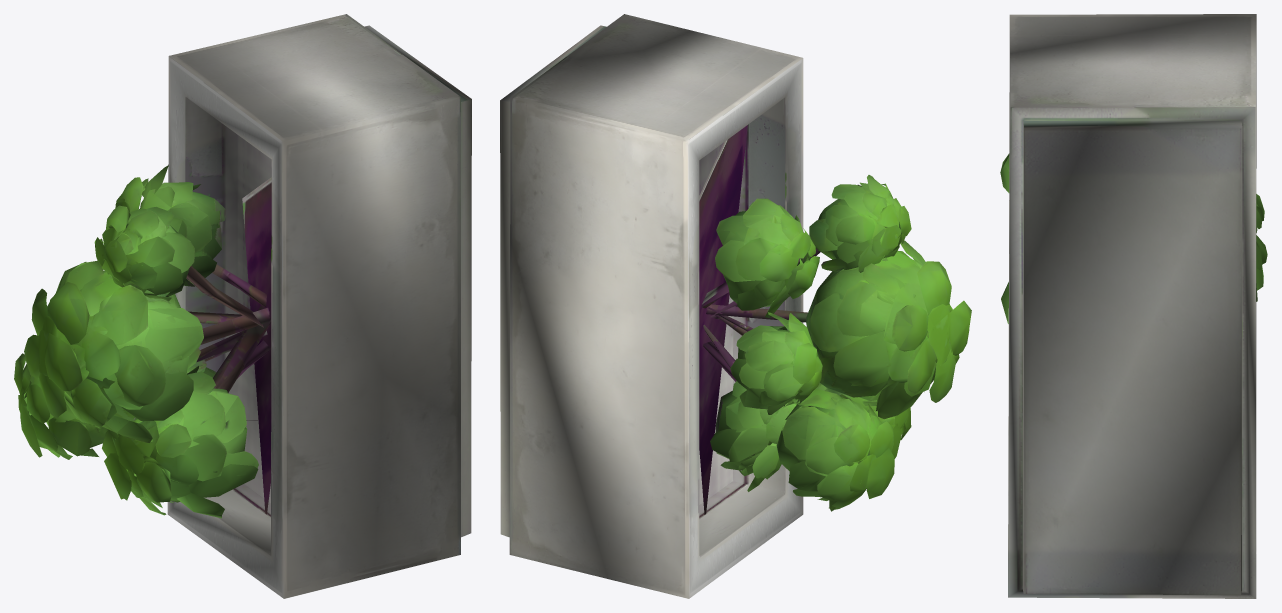
The model's file is concrete_potplant_production.fbx.
The picture shows the model from 3 angles, left to right: view 1: azimuth 30°, elevation 25°; view 2: azimuth 150°, elevation 25°; view 3: azimuth 270°, elevation 25°; orthographic projection. The views are drawn at different scales.
Parts seen in each view (by area): view 1: mesh_node; view 2: mesh_node; view 3: mesh_node.
Part boxes in pixels (x1,y1,x2,y2): mesh_node: [14, 14, 471, 598]; mesh_node: [500, 14, 971, 598]; mesh_node: [1000, 14, 1267, 598].
Bounding box in the file's own units: 2.18 × 2.44 × 1.2.
